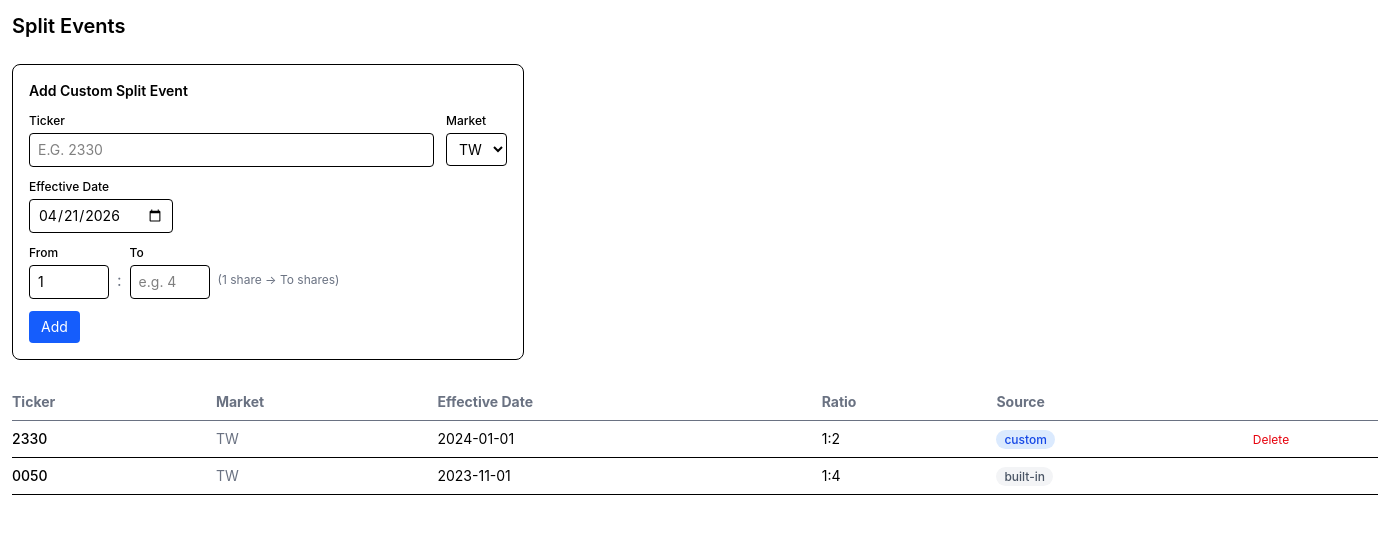
it: SplitEvents › shows error when ticker is empty
expect the text "0050" is shown: met, box [12,458,216,494]
Click the button "Add" at (54, 327), box [29,311,80,343]
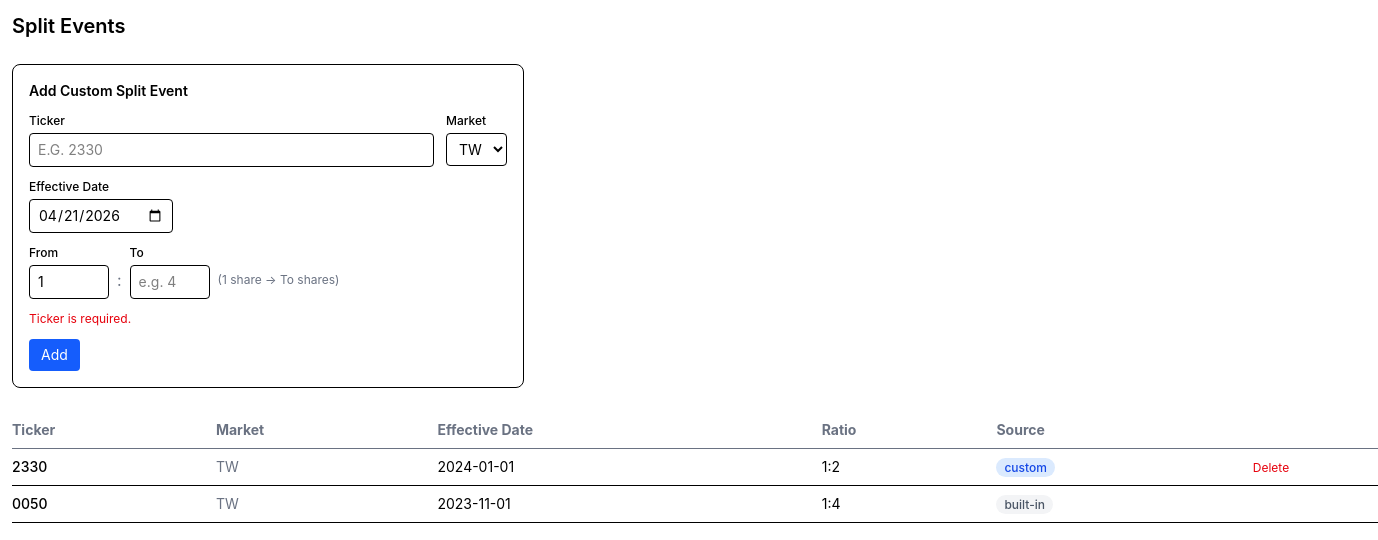
expect the text "Ticker is required." is shown: met, box [29,311,131,326]
